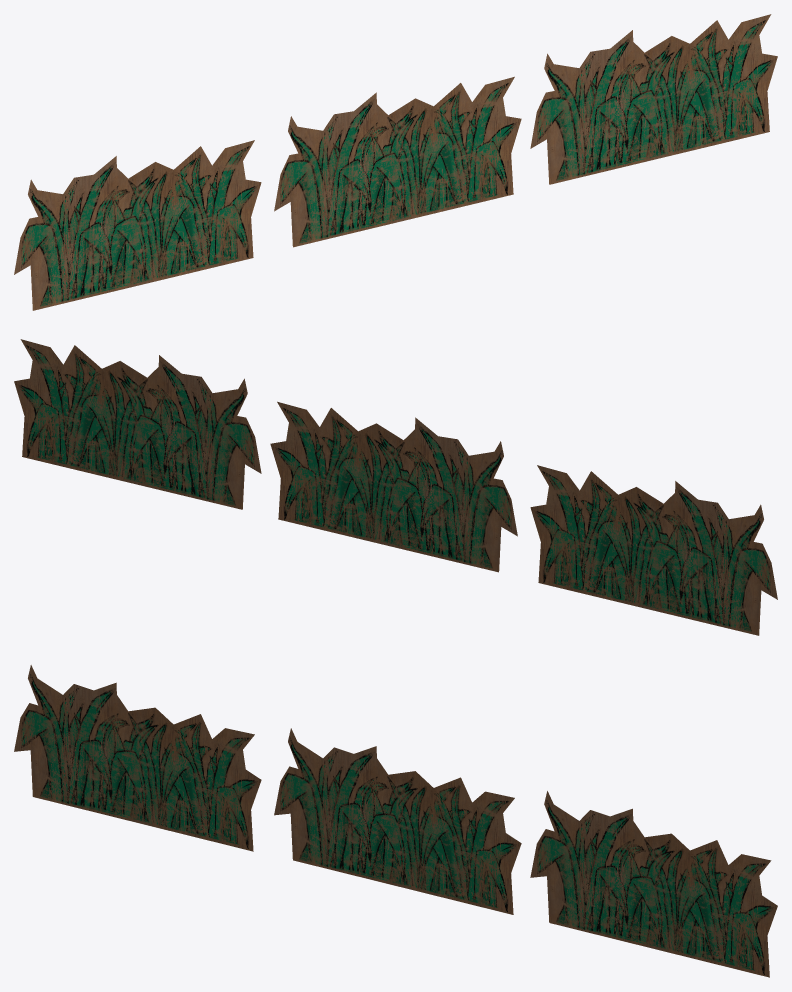
The model's file is PastoFondo.fbx.
The picture shows the model from 3 angles, top to bottom: view 1: azimuth 30°, elevation 25°; view 2: azimuth 150°, elevation 25°; view 3: azimuth 330°, elevation 25°; orthographic projection.
Visible parts, largest first — view 1: Plane.004, Plane.005, Plane.003; view 2: Plane.004, Plane.005, Plane.003; view 3: Plane.003, Plane.005, Plane.004.
Boxes of the visible parts, x1,y1,x2,y2 form: Plane.004: (274,76,521,247); Plane.005: (530,14,777,184); Plane.003: (14,140,261,310); Plane.004: (270,401,517,572); Plane.005: (14,339,261,509); Plane.003: (530,465,777,635); Plane.003: (14,665,261,851); Plane.005: (530,791,777,977); Plane.004: (274,728,521,914).
Bounding box in the file's own units: 1530 × 260 × 1.13e-05.
1 material, 1 textured.
